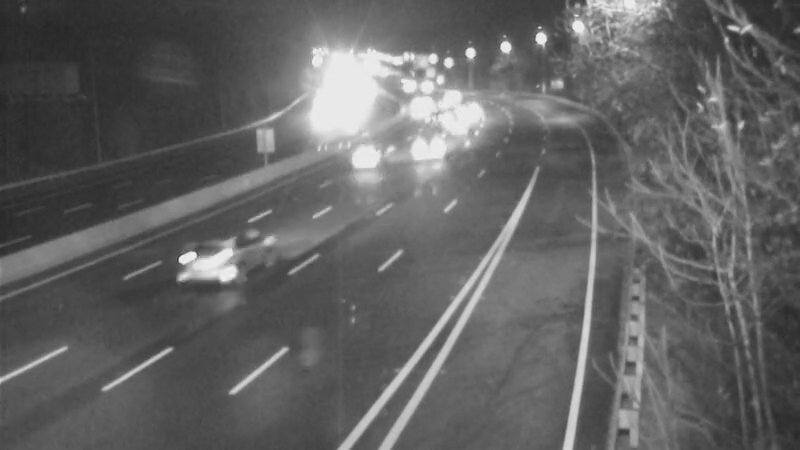vehicle: (387, 114, 467, 194), (324, 117, 404, 197), (162, 228, 242, 308), (416, 75, 466, 125), (393, 77, 443, 127), (388, 89, 438, 139), (443, 86, 493, 136), (431, 95, 481, 145), (294, 100, 344, 150)
